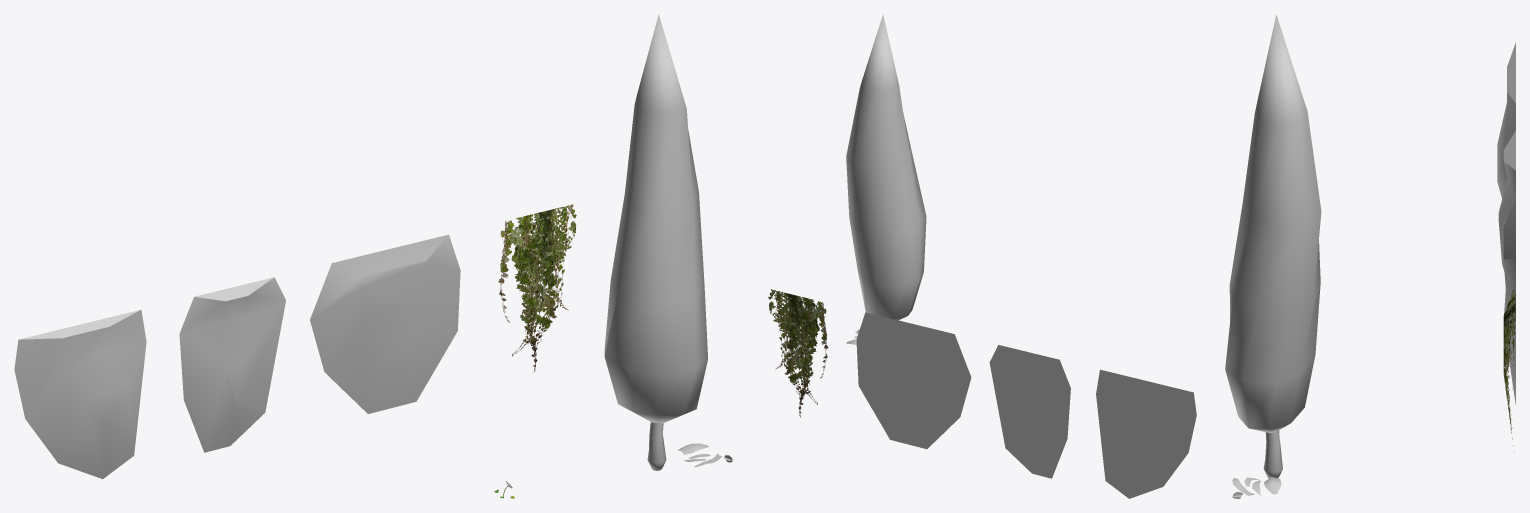
Rendered from ETPUpdate1_3.FBX.
3 views of the same model, side by side, from view 1: azimuth 30°, elevation 25°; view 2: azimuth 150°, elevation 25°; view 3: azimuth 270°, elevation 25° (orthographic). The views are drawn at different scales.
Visible parts, largest first — view 1: CypressBody, Plane002, Plane004, Plane003, Plane001; view 2: CypressBody, Plane002, Plane004, Plane003, Plane001; view 3: CypressBody, Plane002, Plane004, Plane003, Plane001, CypressTrunk.
Boxes of the visible parts, x1,y1,x2,y2 form: CypressBody: (604,14,707,423); Plane002: (310,234,460,413); Plane004: (14,310,146,479); Plane003: (179,277,285,452); Plane001: (498,204,576,371); CypressBody: (846,14,926,320); Plane002: (856,312,971,449); Plane004: (1096,369,1196,498); Plane003: (989,345,1070,478); Plane001: (768,289,828,417); CypressBody: (1225,14,1321,432); Plane002: (1503,199,1515,404); Plane004: (1497,42,1515,198); Plane003: (1498,130,1515,272); Plane001: (1503,287,1515,451); CypressTrunk: (1263,430,1282,478).
Bounding box in the file's own units: 114 × 84.72 × 47.95.
